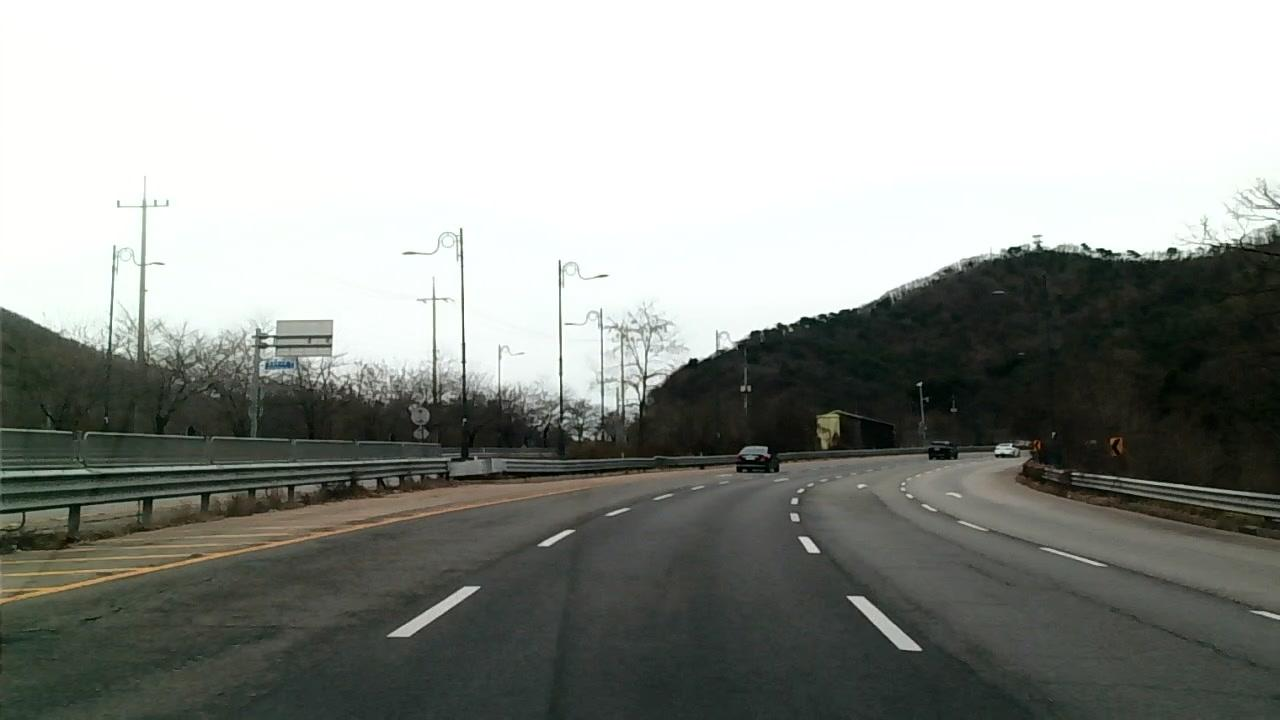erosion: (1, 553, 303, 684)
vcrack: (1065, 587, 1280, 675), (1108, 564, 1280, 622)
